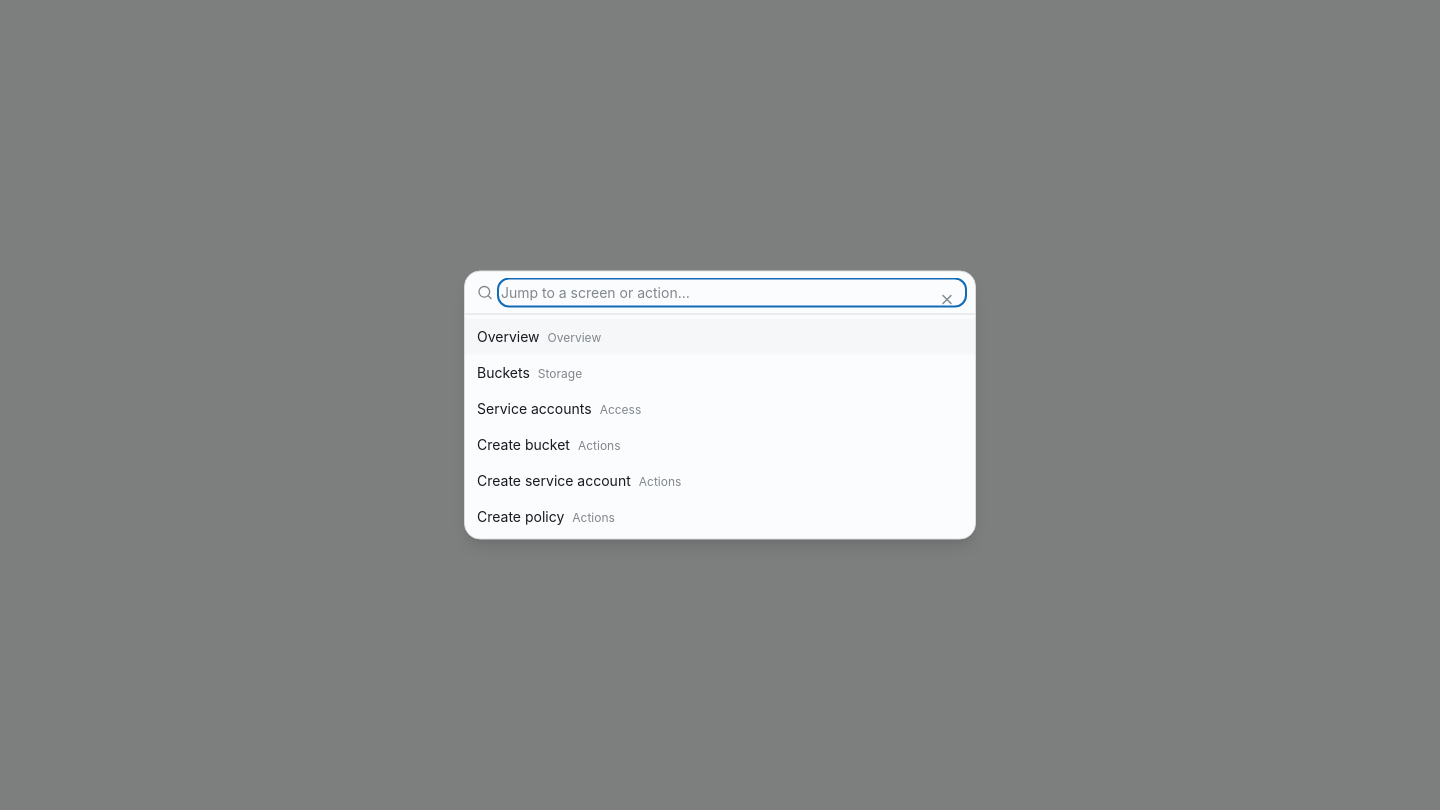
Scenario: CommandPalette › says plainly when nothing matches
Type "zzzz" into the field named "Search commands" at (732, 292), box [501, 282, 963, 304]
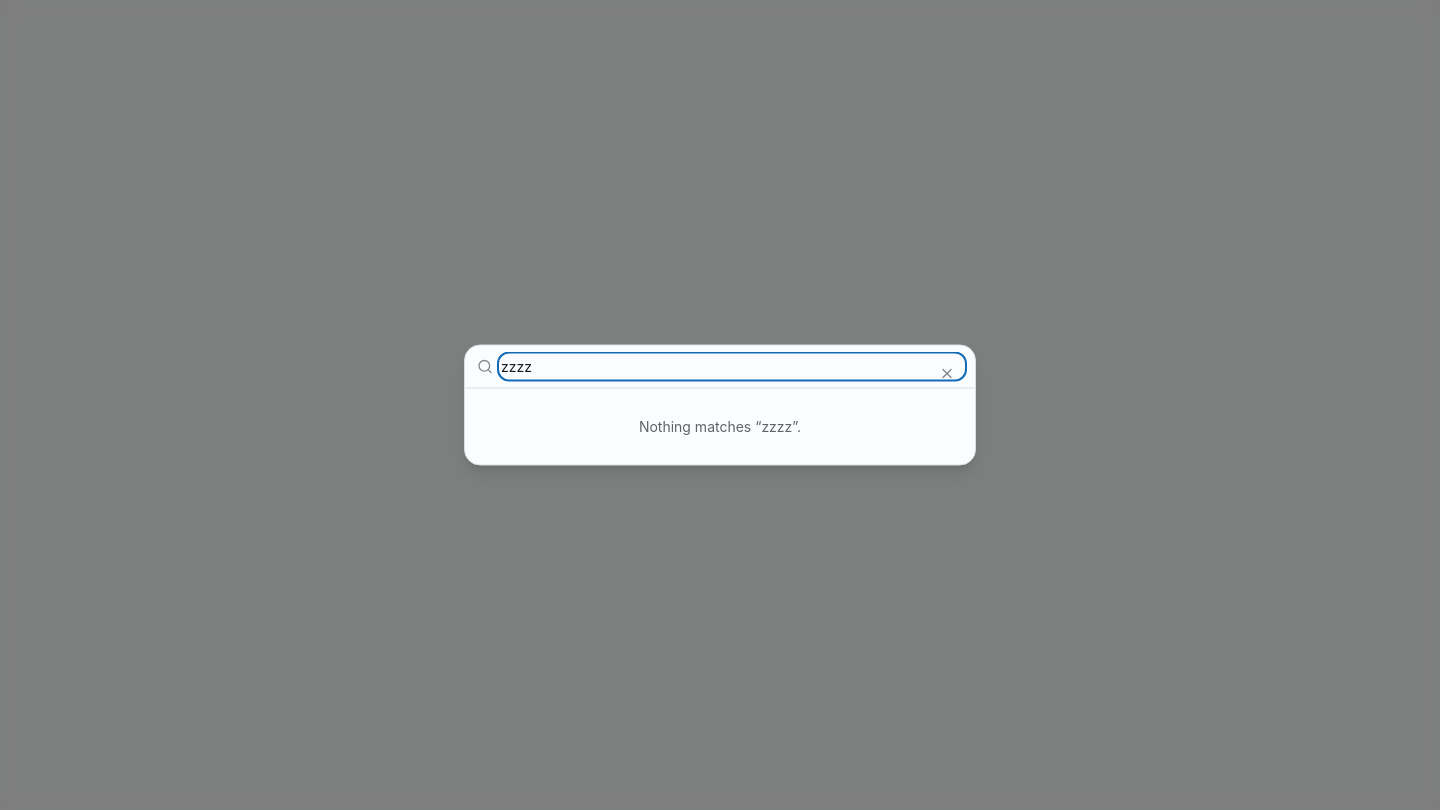
Check: the list item "Nothing matches “zzzz”." is shown, box [639, 418, 801, 434]
Check: no options are shown
